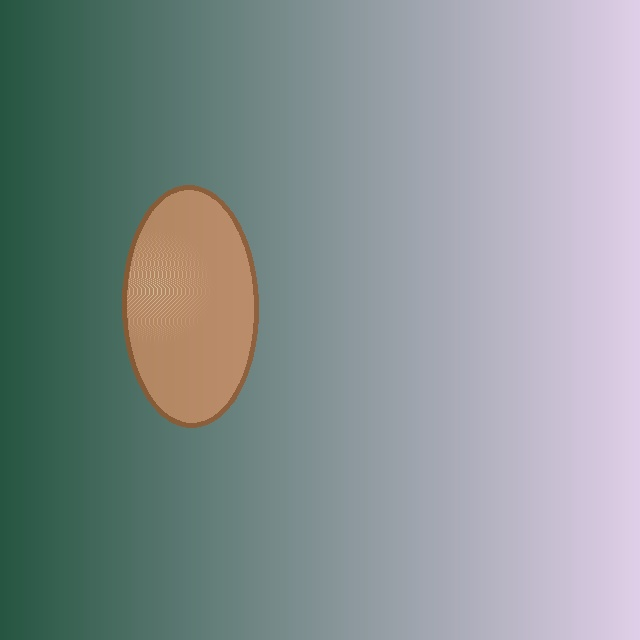lens: (124, 187, 256, 425)
